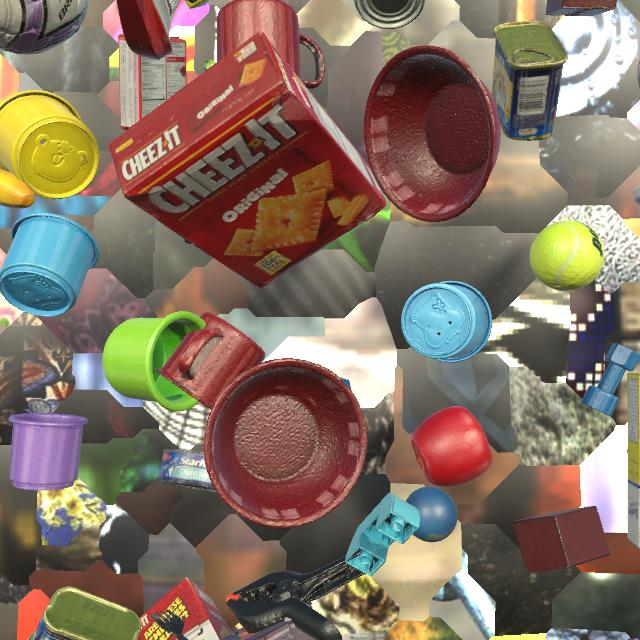ycb_003_cracker_box: (108, 31, 387, 289), (138, 577, 233, 640)
ycb_004_sugar_box: (627, 372, 640, 550), (185, 0, 209, 9)
ycb_005_tomato_soup_can: (354, 0, 425, 29)
ycb_007_tuna_fish_can: (159, 449, 217, 493), (637, 61, 640, 89)
ycb_009_gelatin_box: (118, 34, 187, 130)
ycb_010_potted_meat_can: (492, 20, 568, 141), (28, 586, 141, 640)
ycb_011_banana: (0, 169, 35, 209), (203, 60, 215, 71)
ycb_013_apple: (411, 406, 493, 487)
